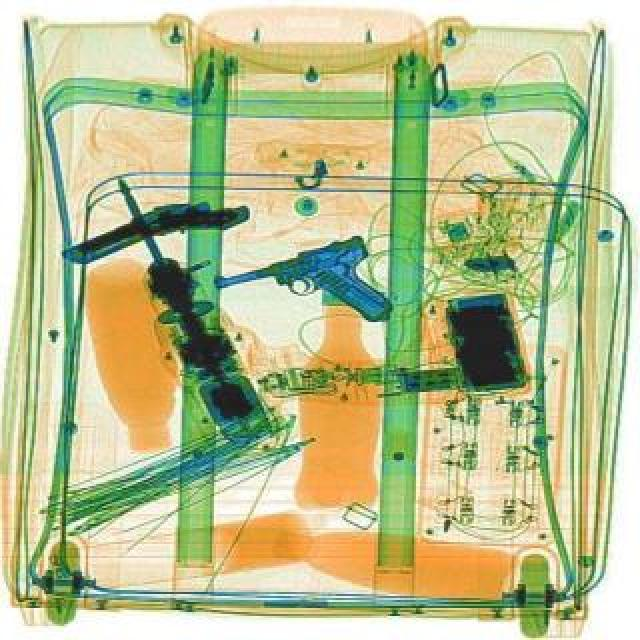gun: (208, 230, 396, 366), (58, 174, 252, 294)
